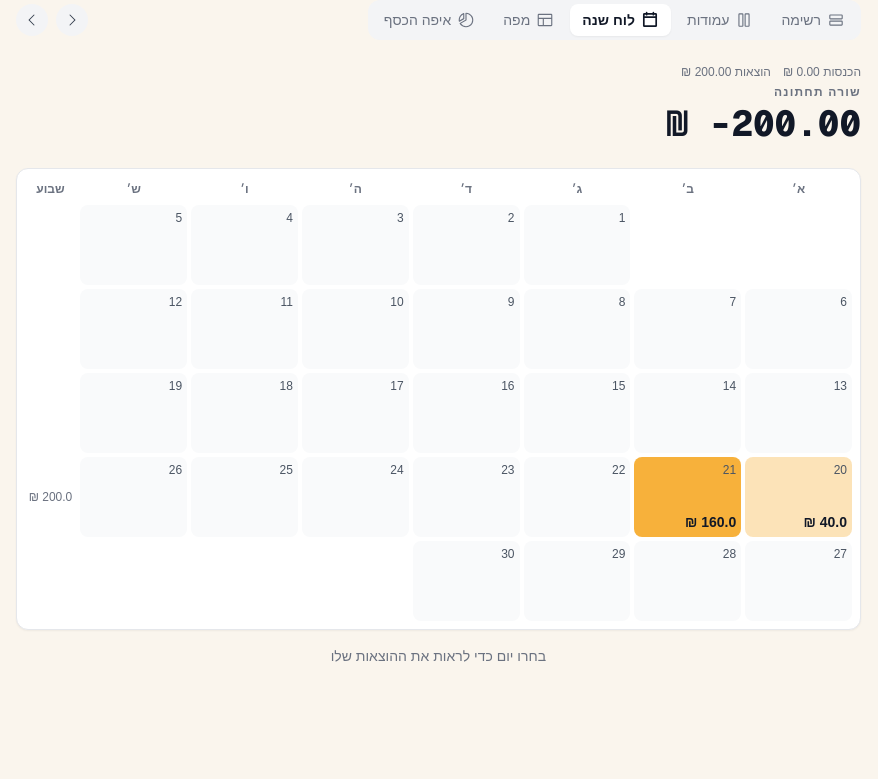
Test: ExpensesExplorer calendar view › hiding a row updates the day total and the bottom line
Click the button "21 160.0 ₪" at (688, 497), box [634, 457, 741, 537]
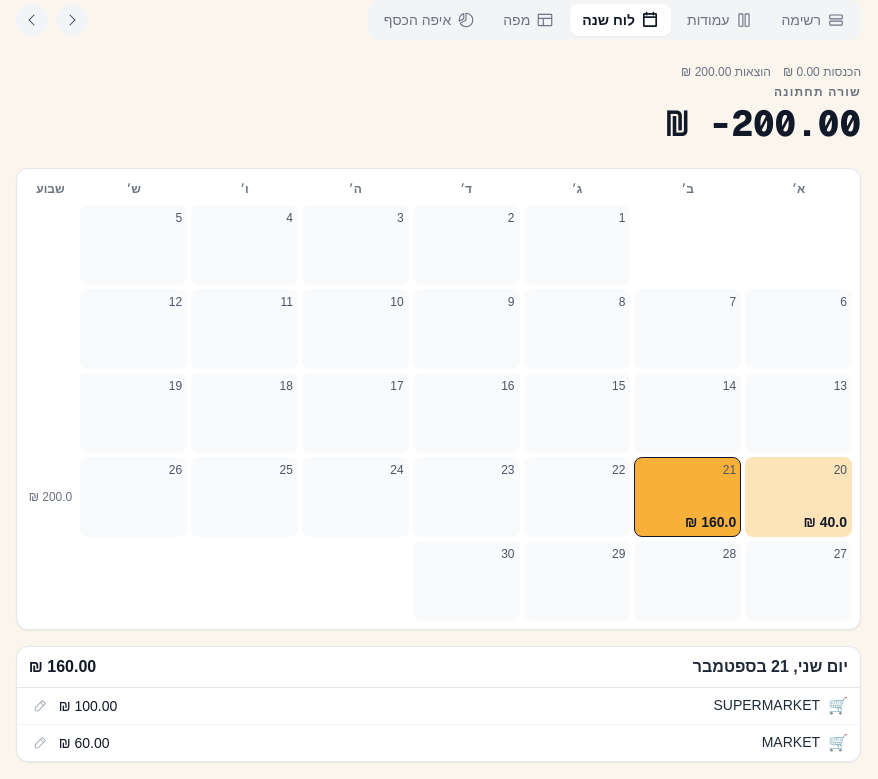
Click the text "SUPERMARKET" at (767, 705), box [714, 697, 820, 713]
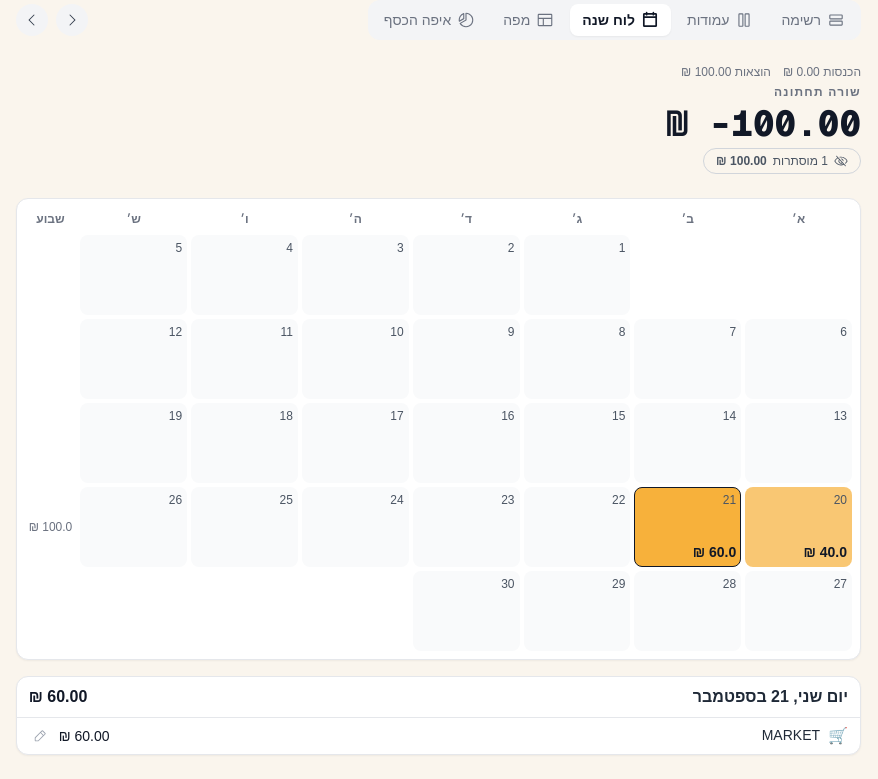
Expected: the text "SUPERMARKET" is gone
